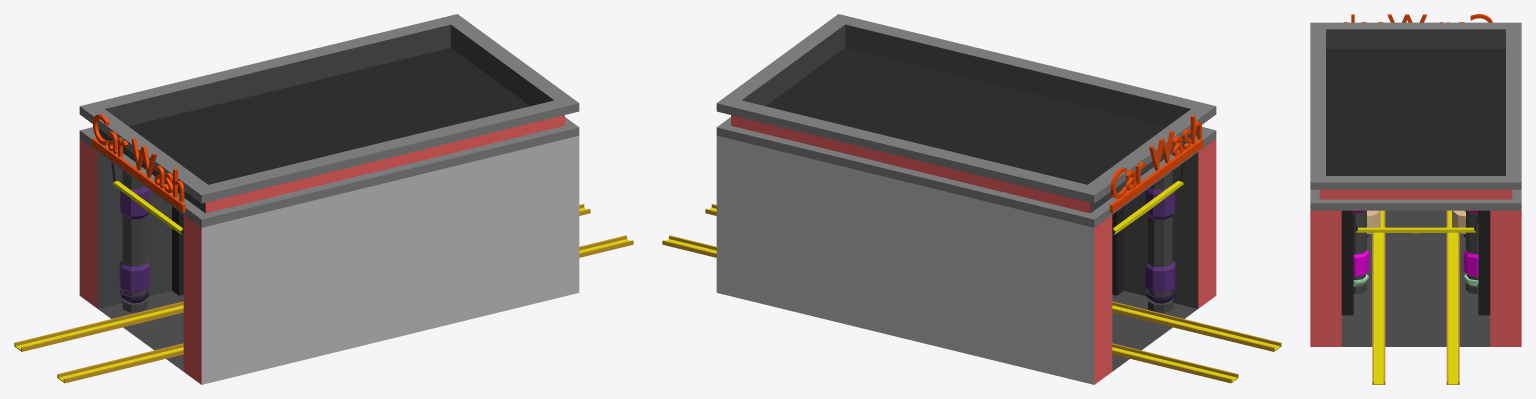
Rendered from CarWash.fbx.
The picture shows the model from 3 angles, left to right: view 1: azimuth 30°, elevation 25°; view 2: azimuth 150°, elevation 25°; view 3: azimuth 270°, elevation 25°; orthographic projection. The views are drawn at different scales.
Visible parts, largest first — view 1: CarWash; view 2: CarWash; view 3: CarWash.
Part boxes in pixels (x1,y1,x2,y2): CarWash: (14,14,633,384); CarWash: (662,14,1281,384); CarWash: (1310,14,1521,384).
Size of the model in its own units: 1506 by 501 by 559.
